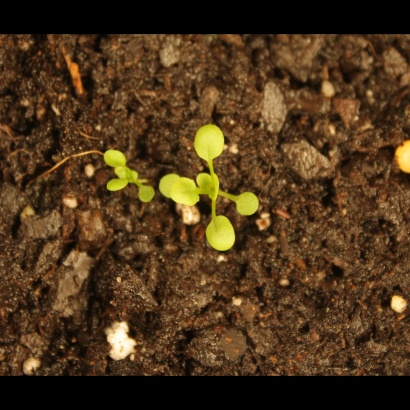leaf: (190, 123, 231, 166), (203, 212, 238, 255), (153, 171, 189, 203), (168, 176, 201, 209), (231, 189, 263, 220), (195, 170, 225, 201), (98, 144, 131, 169), (106, 176, 131, 202), (135, 183, 160, 208)
